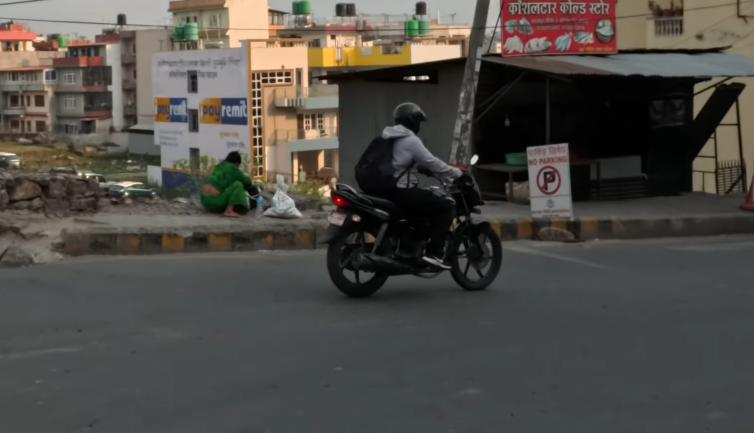bike: (322, 146, 505, 299)
